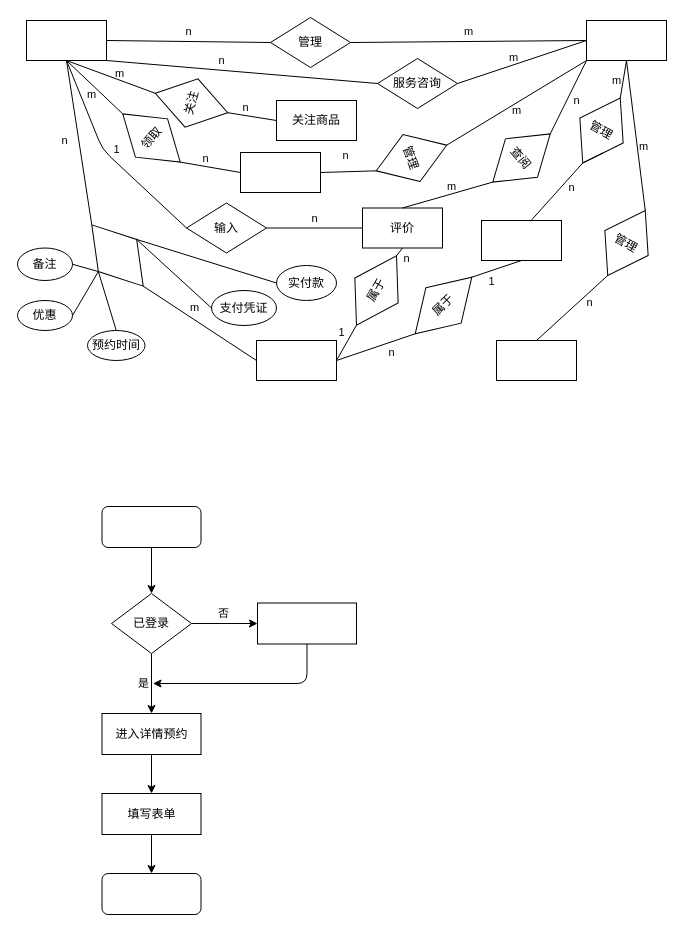
Image size: 685x932. Some labels were removed from this diagram. Each missing label, with the box of its shape:
开始: (101, 506, 201, 548)
用户: (26, 20, 106, 60)
登录: (256, 602, 356, 644)
福利: (240, 152, 320, 192)
管理员: (586, 20, 666, 60)
结束: (101, 872, 201, 914)
维修员: (496, 340, 576, 380)
维修商品: (256, 340, 336, 380)
维修商品类别: (480, 220, 562, 260)
预约: (71, 208, 162, 302)
